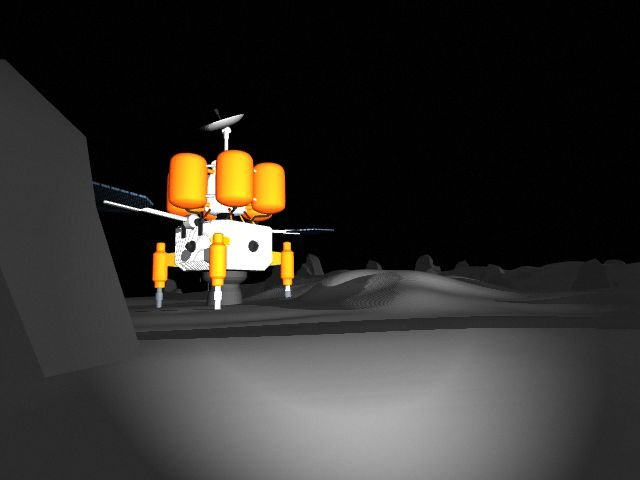homebase: (69, 107, 338, 316)
